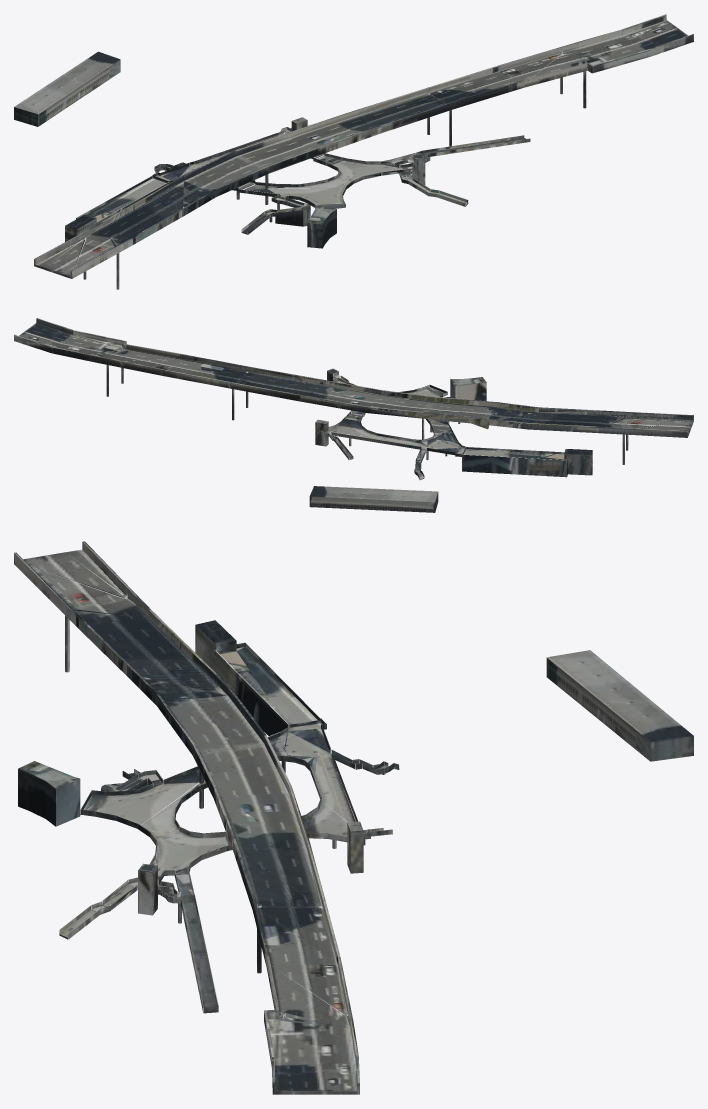
The model's file is bridge_0_-1.glb.
3 views of the same model, one above another, from view 1: azimuth 30°, elevation 25°; view 2: azimuth 150°, elevation 25°; view 3: azimuth 270°, elevation 25° (orthographic). The views are drawn at different scales.
Bounding box in the file's own units: 296 × 19.66 × 155.
Materials: 2 (1 with a texture image).
